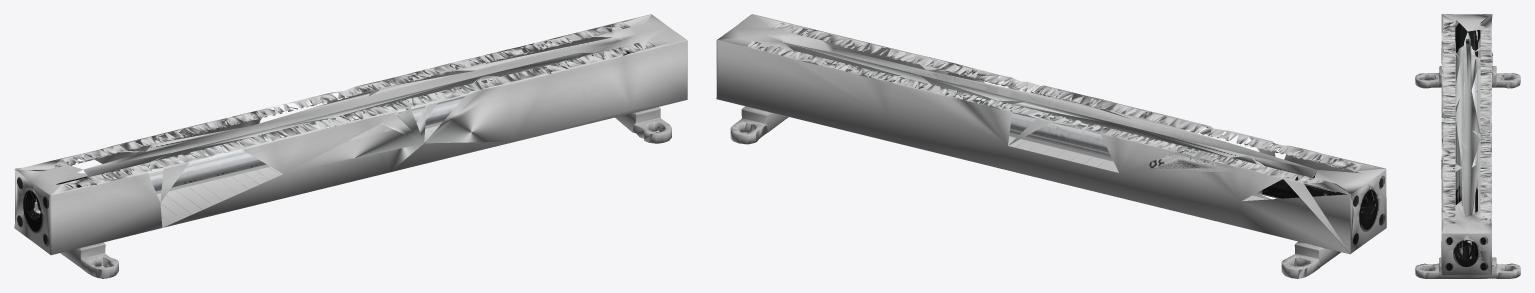
The model's file is optical-bench.glb.
3 views of the same model, side by side, from view 1: azimuth 30°, elevation 25°; view 2: azimuth 150°, elevation 25°; view 3: azimuth 270°, elevation 25° (orthographic). The views are drawn at different scales.
Size of the model in its own units: 0.9541 by 0.1127 by 0.1929.
Materials: 1 (1 with a texture image).
